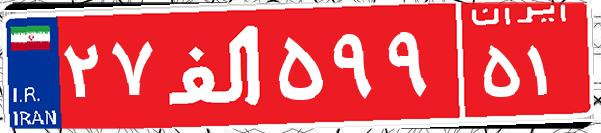1: (525, 38, 570, 115)
2: (57, 26, 110, 107)
5: (273, 28, 330, 110), (475, 38, 525, 113)
7: (110, 28, 158, 105)
9: (385, 28, 445, 110), (330, 28, 385, 110)
الف: (158, 15, 273, 115)
